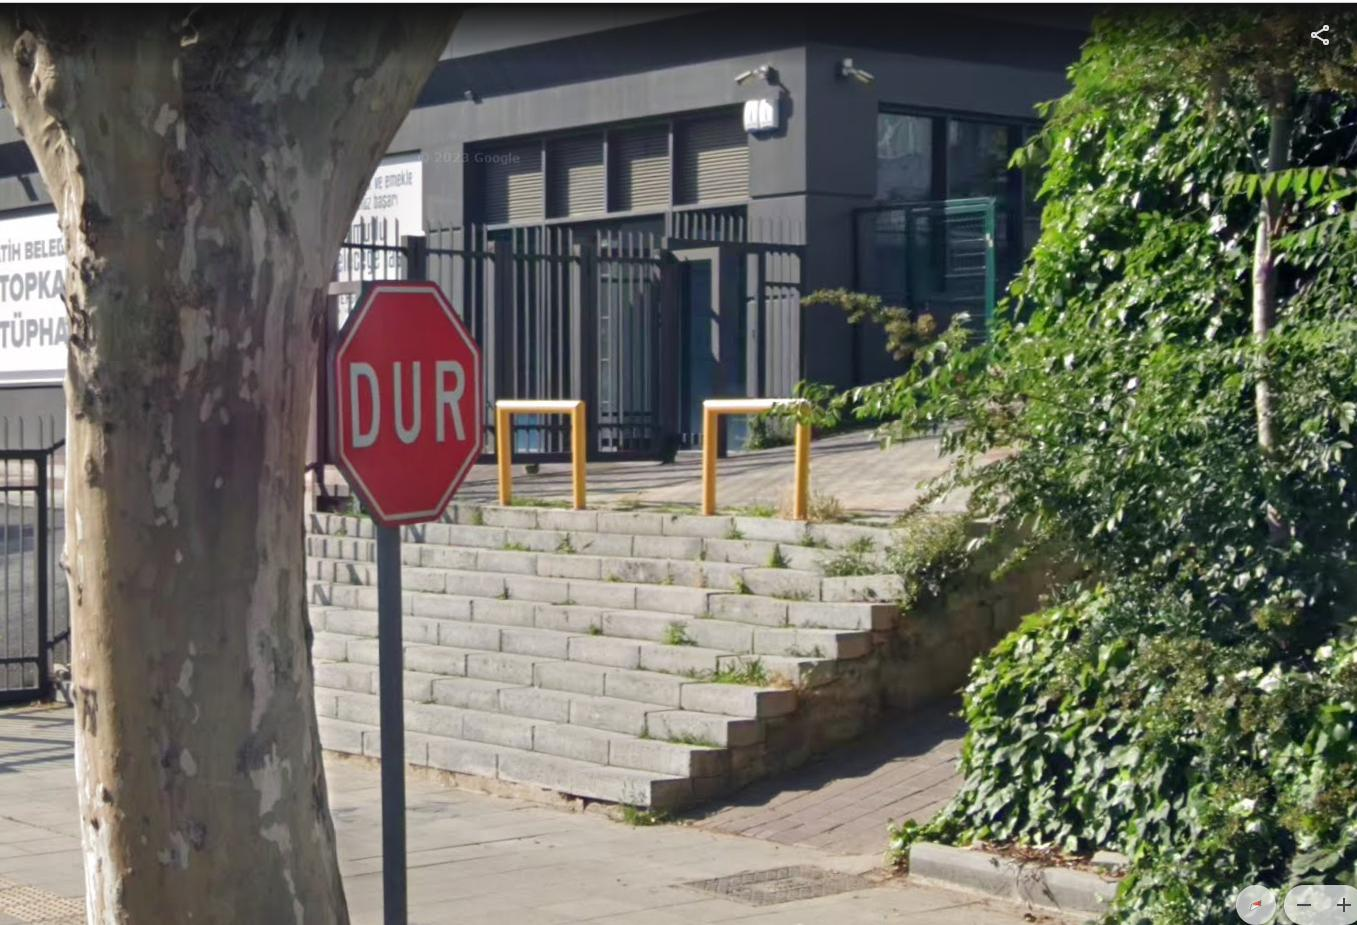stop: (326, 277, 484, 515)
